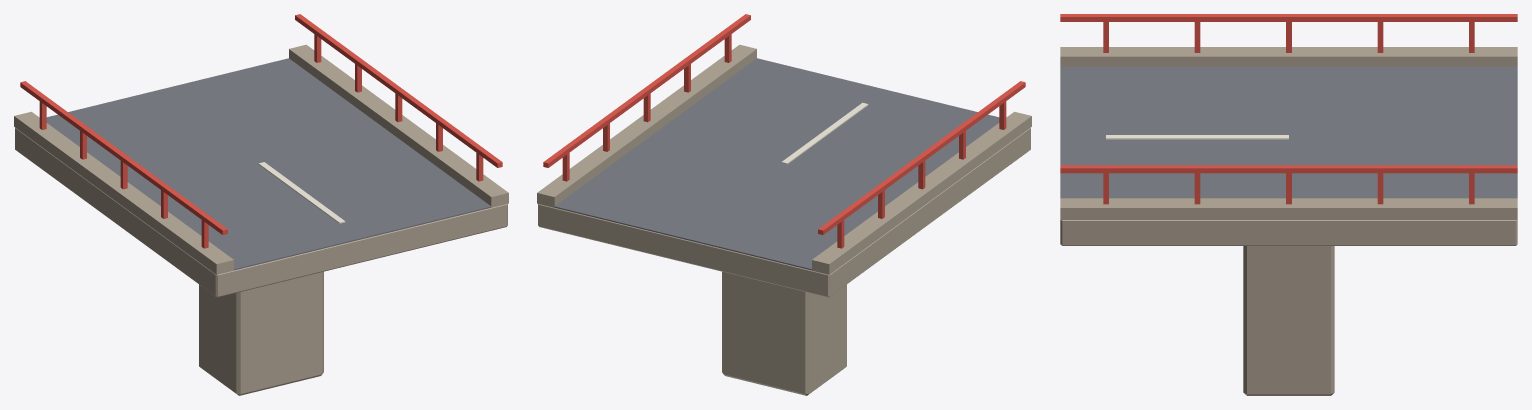
File: bridge_piece.glb
3 renders of one model, left to right at view 1: azimuth 30°, elevation 25°; view 2: azimuth 150°, elevation 25°; view 3: azimuth 270°, elevation 25°, orthographic. The views are drawn at different scales.
Parts seen in each view (by area): view 1: bridge_piece; view 2: bridge_piece; view 3: bridge_piece.
Boxes of the visible parts, bbox=[...] form: bridge_piece: bbox=[14, 14, 508, 395]; bridge_piece: bbox=[537, 14, 1031, 395]; bridge_piece: bbox=[1060, 14, 1517, 395].
Bounding box in the file's own units: 10 × 8.18 × 12.
